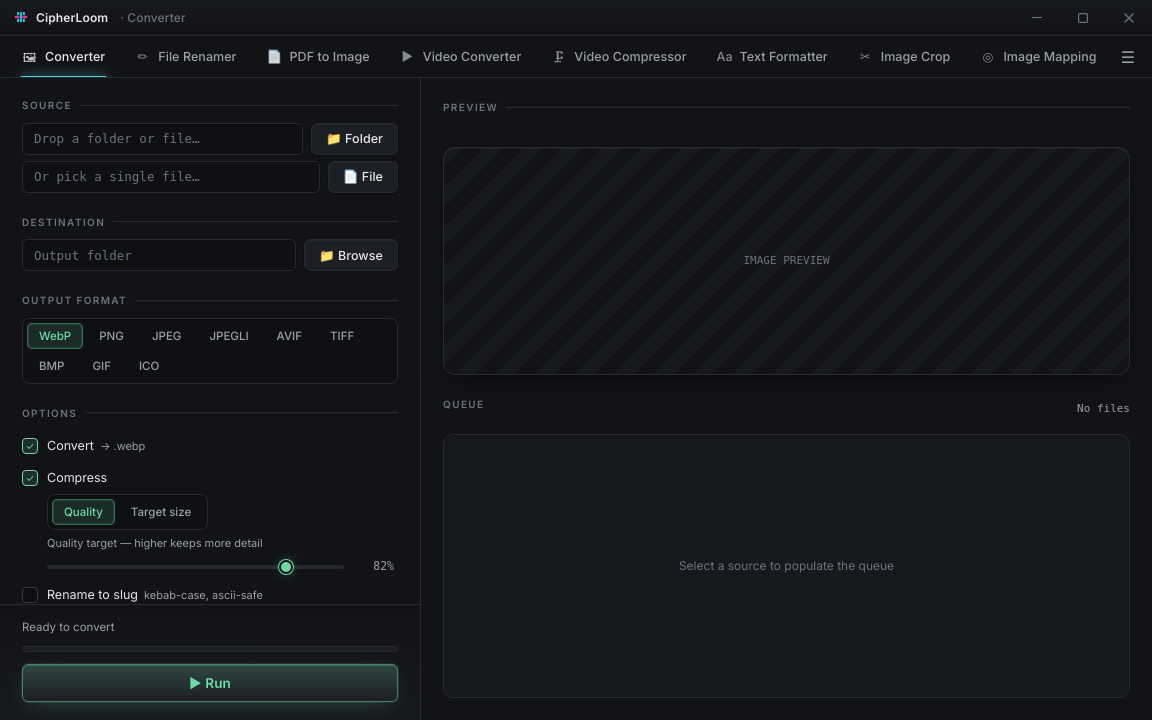
Test: App shell › switches tabs when clicked
Step 1. Click the text "Text Formatter" → (784, 56), box x1=740 y1=49 x2=828 y2=64
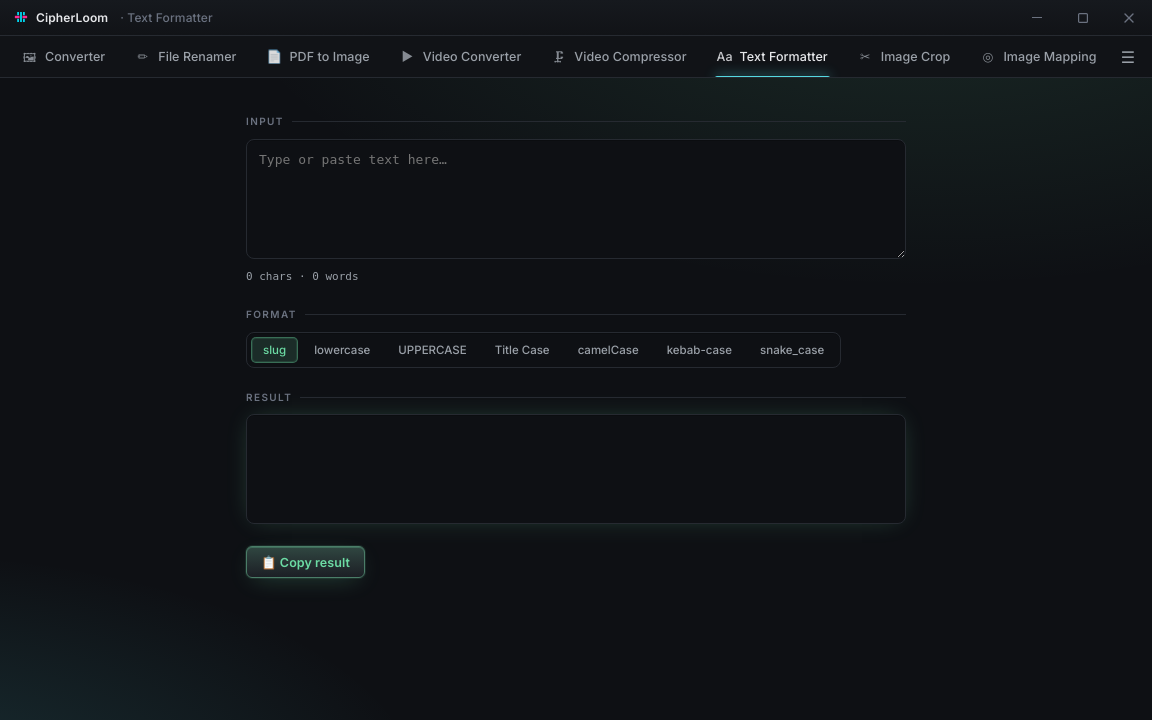
Result: the text "· Text Formatter" is shown at x1=120 y1=9 x2=213 y2=26
